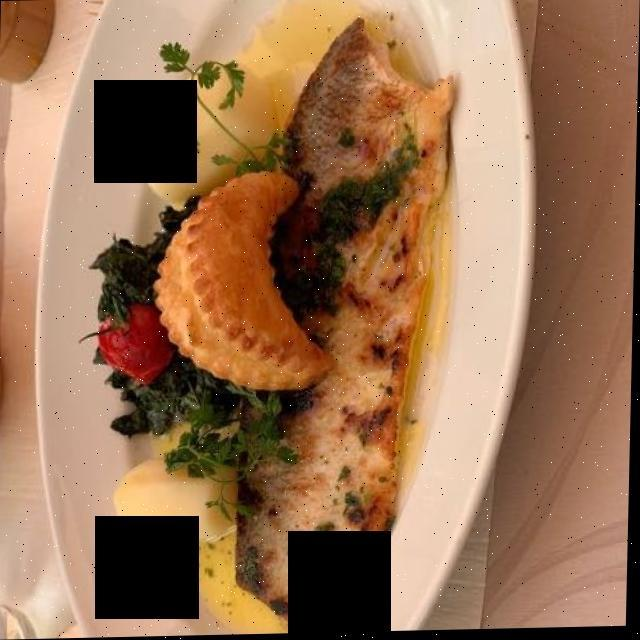fish: (211, 18, 470, 631)
puff-pastry: (142, 162, 345, 409)
salad: (85, 188, 319, 535)
